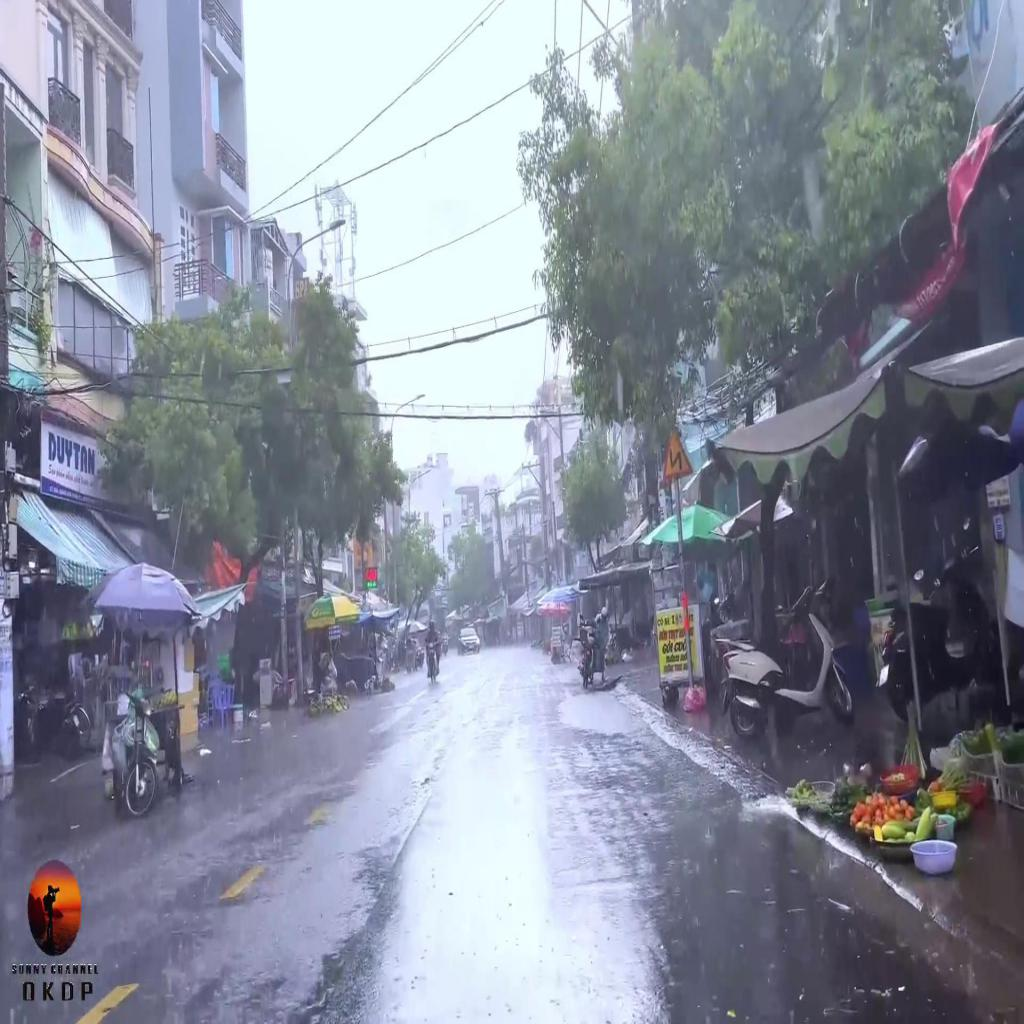cho_ngoat_nguy_hiem_lien_tiep: (662, 422, 692, 481)
